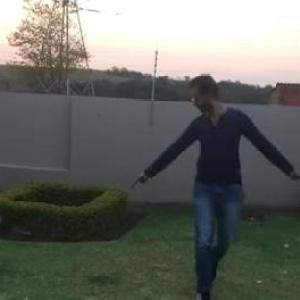land: (128, 66, 299, 299)
